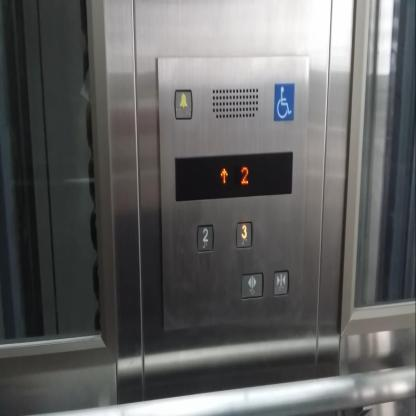2: (197, 223, 214, 252)
3: (236, 219, 252, 248)
CH: (274, 82, 294, 121)
alarm: (173, 88, 194, 119)
close: (272, 268, 288, 296)
led: (174, 150, 293, 202)
open: (240, 271, 263, 299)
